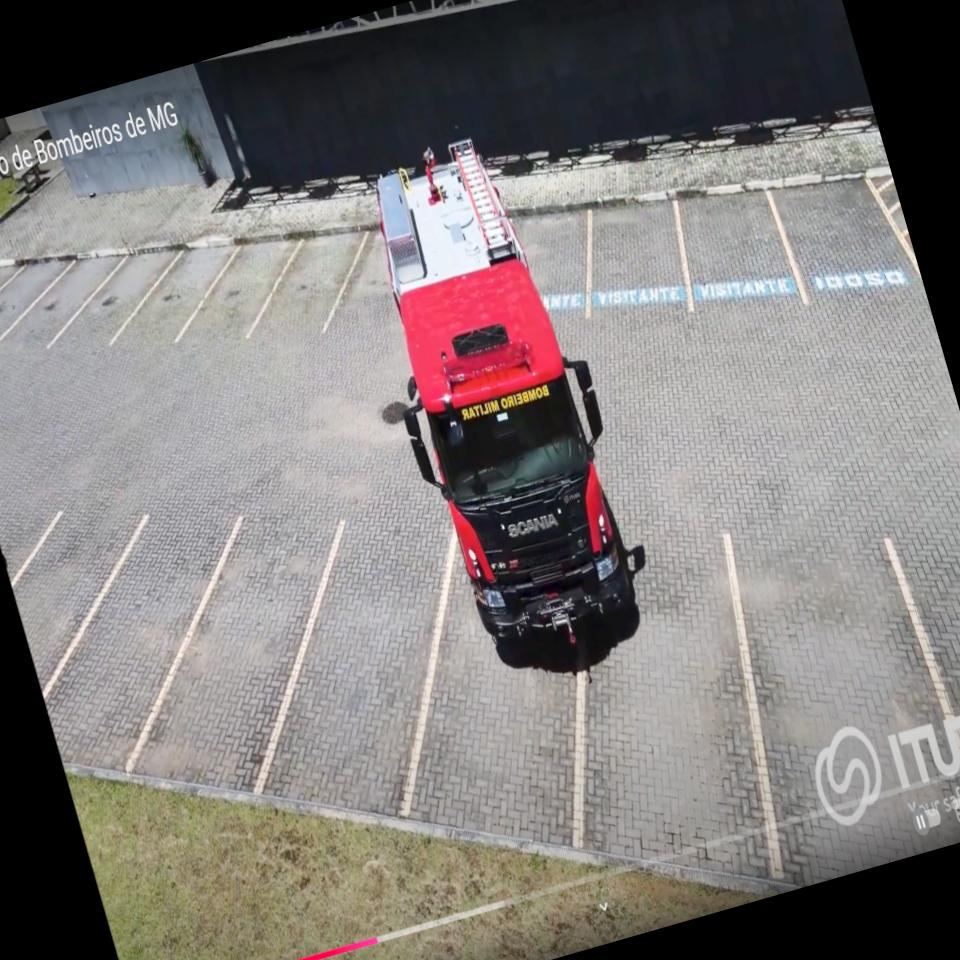viatura: (333, 121, 665, 678)
